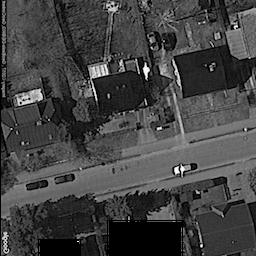roofs: (89, 58, 147, 114), (0, 98, 56, 154), (196, 204, 255, 256), (173, 47, 227, 100)
